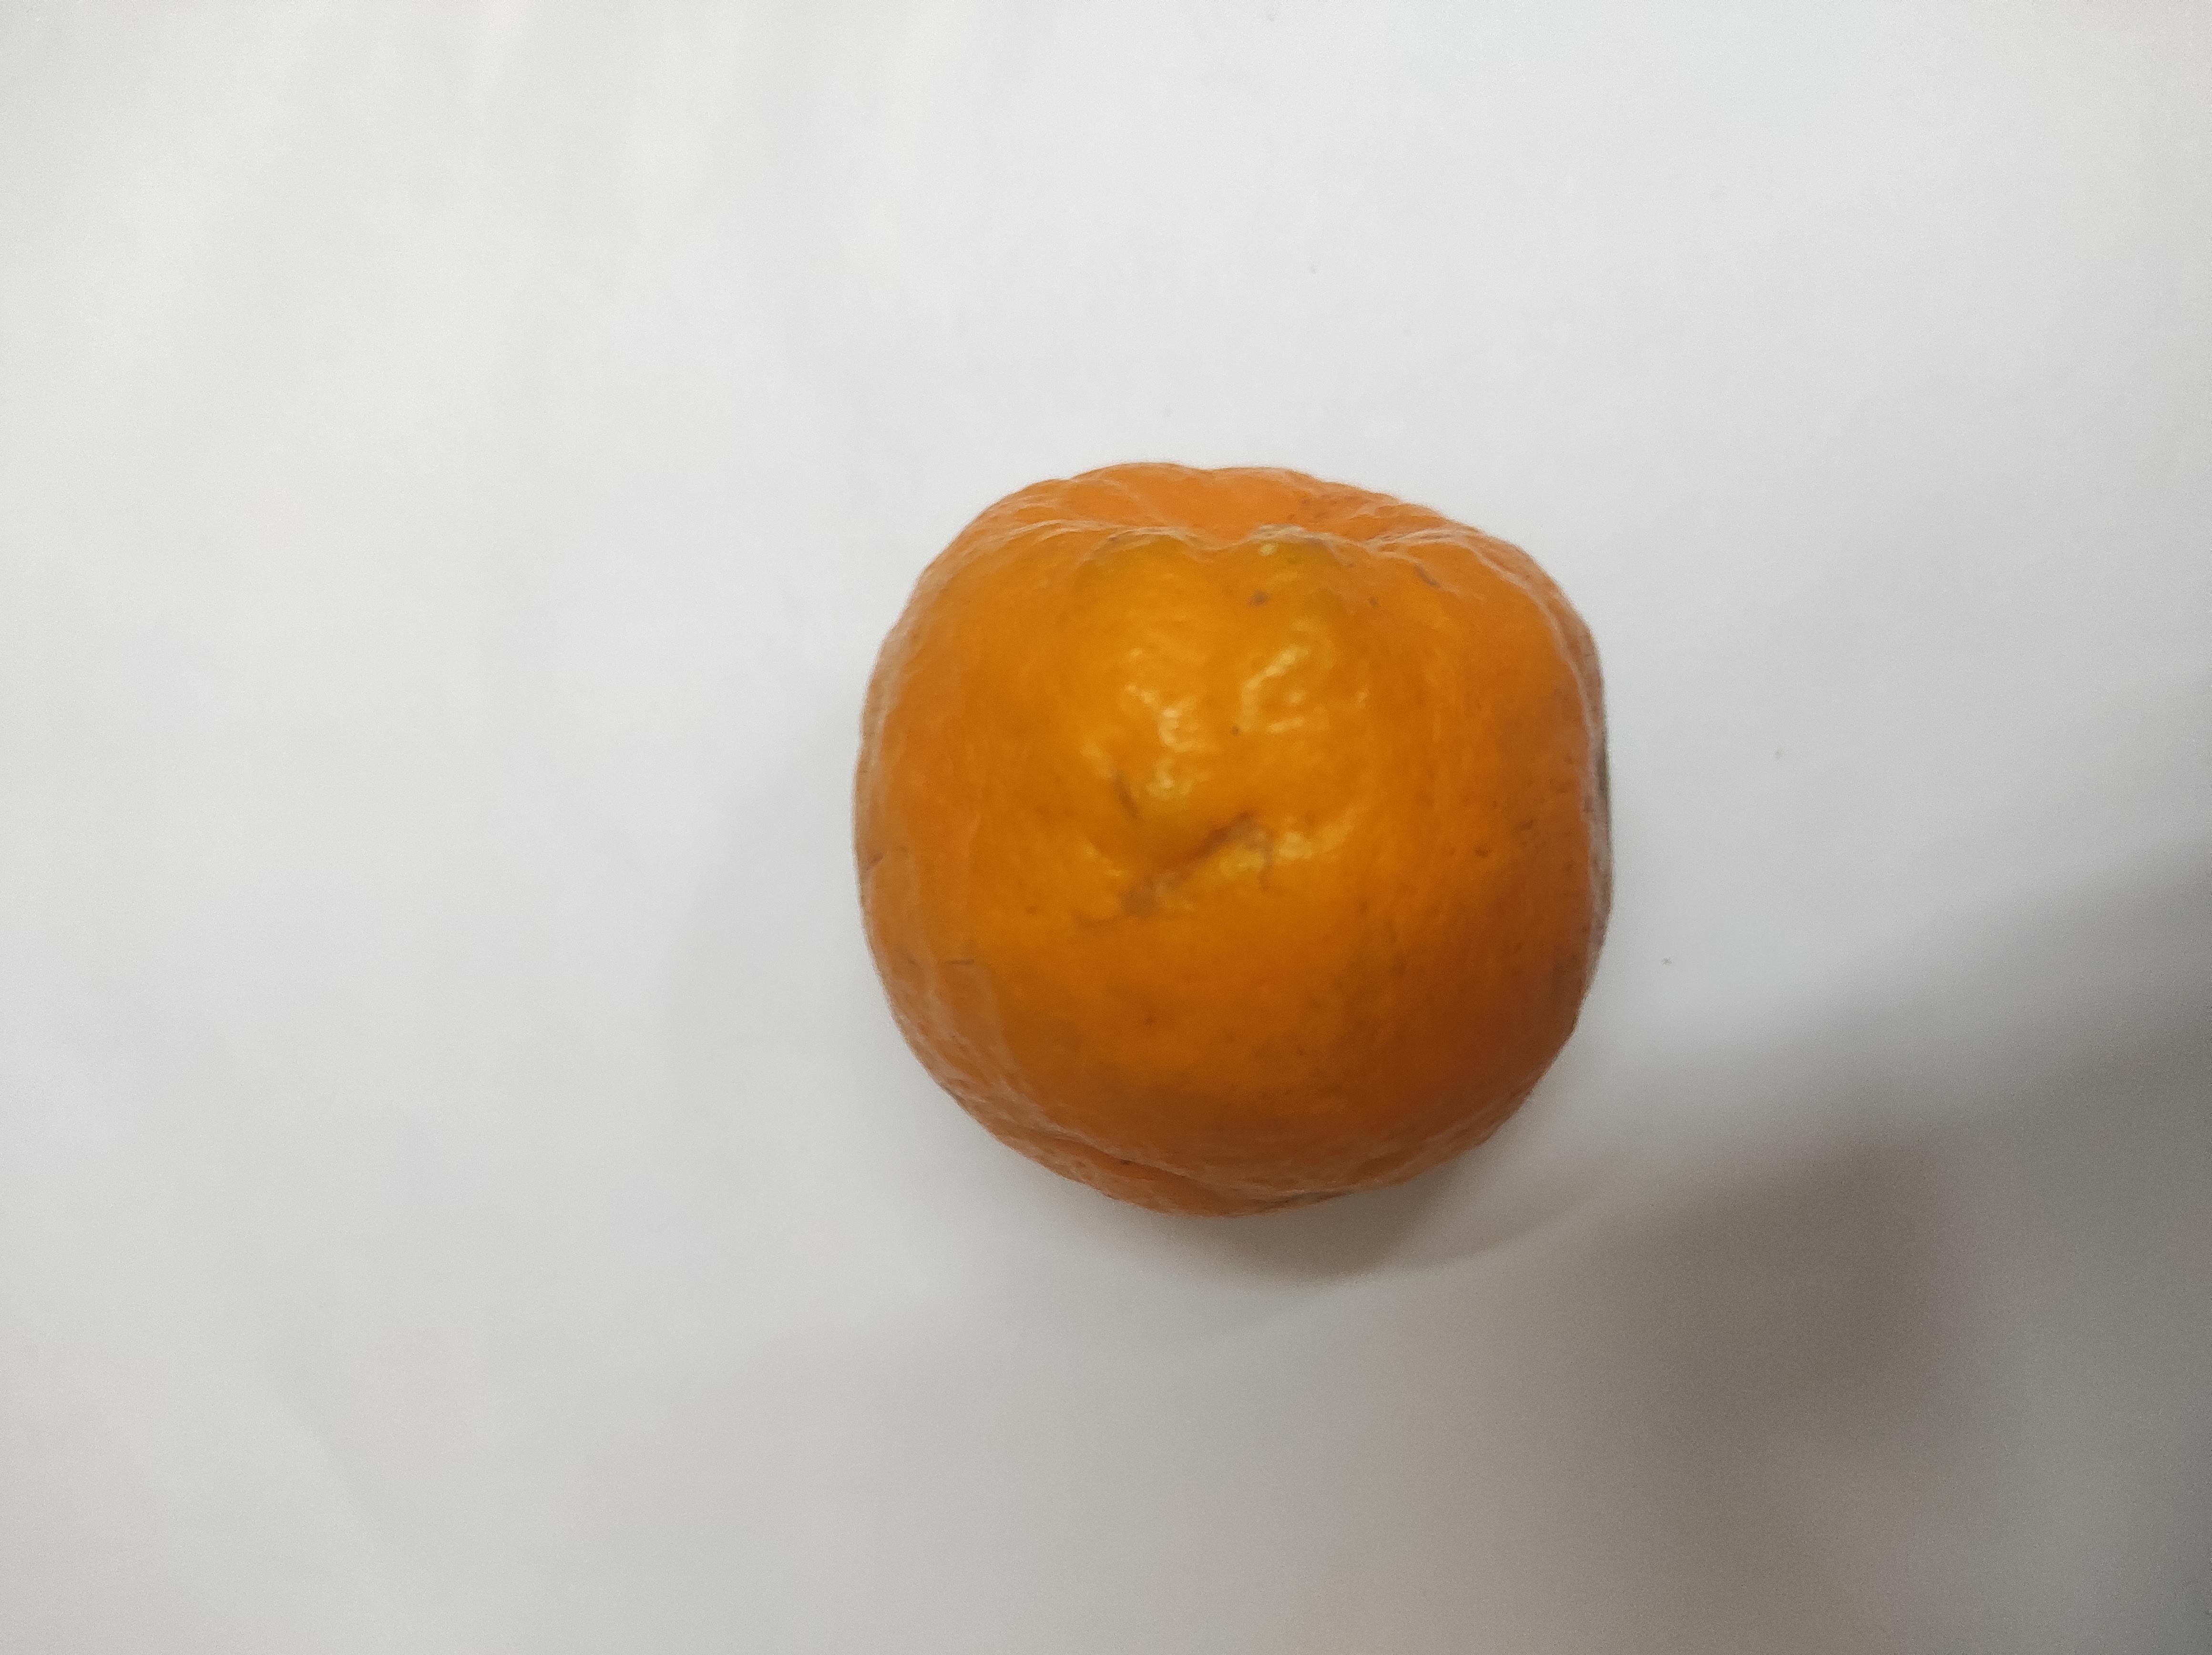Ripe: (863, 457, 1616, 1229)
